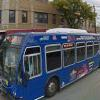Bus: (4, 24, 100, 100)
